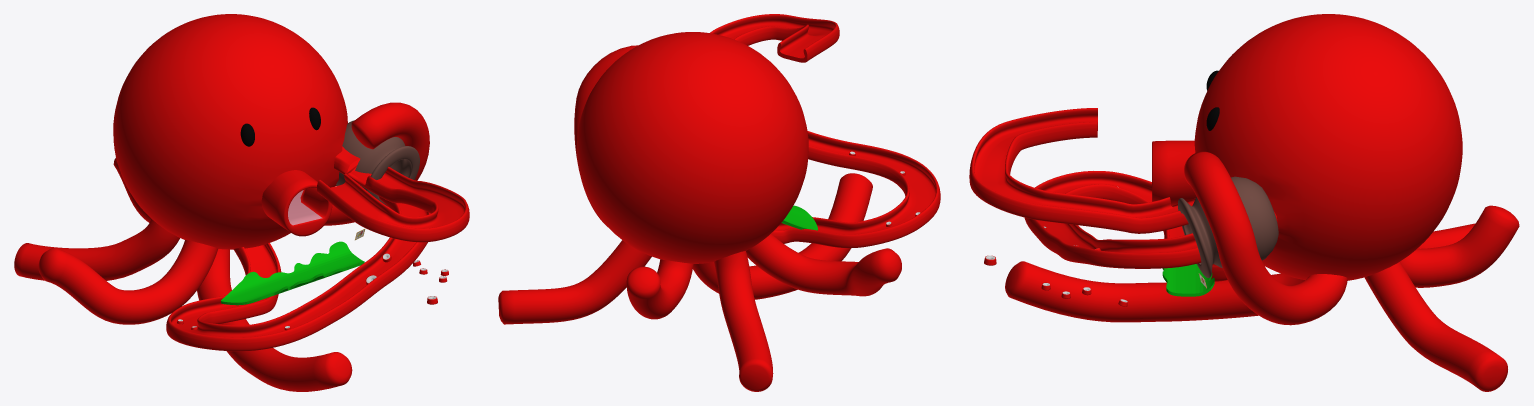
File: miscart_octpas_1.2.1.fbx
3 views of the same model, side by side, from view 1: azimuth 30°, elevation 25°; view 2: azimuth 150°, elevation 25°; view 3: azimuth 270°, elevation 25° (orthographic). The views are drawn at different scales.
Parts seen in each view (by area): view 1: tako_head, leg_01.001, leg_02, leg_03, leg_04, leg_05, tako_mouse, leg_08, wakame, tsubo, tako_eye; view 2: tako_head, leg_01.001, leg_03, leg_07, leg_05, leg_02, leg_04, leg_06, leg_08, wakame; view 3: tako_head, leg_02, leg_08, leg_04, leg_01.001, leg_07, leg_06, tsubo, tako_mouse, wakame, leg_05.
Part boxes in pixels (x1=…): tako_head: x1=113, y1=14, x2=347, y2=249; leg_01.001: x1=166, y1=196, x2=430, y2=351; leg_02: x1=317, y1=146, x2=469, y2=242; leg_03: x1=38, y1=240, x2=217, y2=324; leg_04: x1=197, y1=249, x2=352, y2=391; leg_05: x1=14, y1=219, x2=179, y2=280; tako_mouse: x1=261, y1=170, x2=336, y2=236; leg_08: x1=324, y1=102, x2=429, y2=225; wakame: x1=221, y1=241, x2=364, y2=305; tsubo: x1=336, y1=120, x2=419, y2=206; tako_eye: x1=240, y1=107, x2=320, y2=146; tako_head: x1=576, y1=32, x2=808, y2=263; leg_01.001: x1=771, y1=131, x2=940, y2=248; leg_03: x1=746, y1=233, x2=901, y2=296; leg_07: x1=498, y1=240, x2=651, y2=324; leg_05: x1=714, y1=251, x2=773, y2=391; leg_02: x1=709, y1=14, x2=839, y2=62; leg_04: x1=693, y1=173, x2=872, y2=299; leg_06: x1=626, y1=259, x2=693, y2=319; leg_08: x1=574, y1=45, x2=637, y2=226; wakame: x1=781, y1=205, x2=817, y2=230; tako_head: x1=1194, y1=14, x2=1462, y2=280; leg_02: x1=969, y1=108, x2=1195, y2=233; leg_08: x1=1184, y1=151, x2=1347, y2=325; leg_04: x1=1005, y1=261, x2=1304, y2=322; leg_01.001: x1=1024, y1=171, x2=1227, y2=281; leg_07: x1=1364, y1=261, x2=1507, y2=391; leg_06: x1=1400, y1=205, x2=1519, y2=287; tsubo: x1=1178, y1=176, x2=1278, y2=277; tako_mouse: x1=1152, y1=140, x2=1277, y2=221; wakame: x1=1162, y1=264, x2=1214, y2=296; leg_05: x1=1417, y1=223, x2=1475, y2=248.
Bounding box in the file's own units: 2995 × 2265 × 3522.
